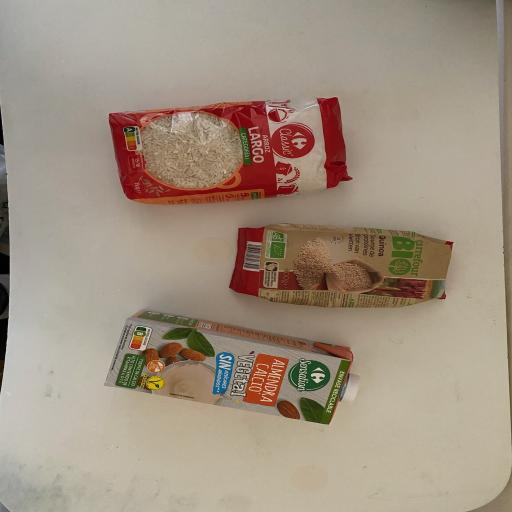almond_milk: (100, 308, 363, 430)
quinoa: (230, 222, 455, 312)
rice: (102, 95, 355, 207)
